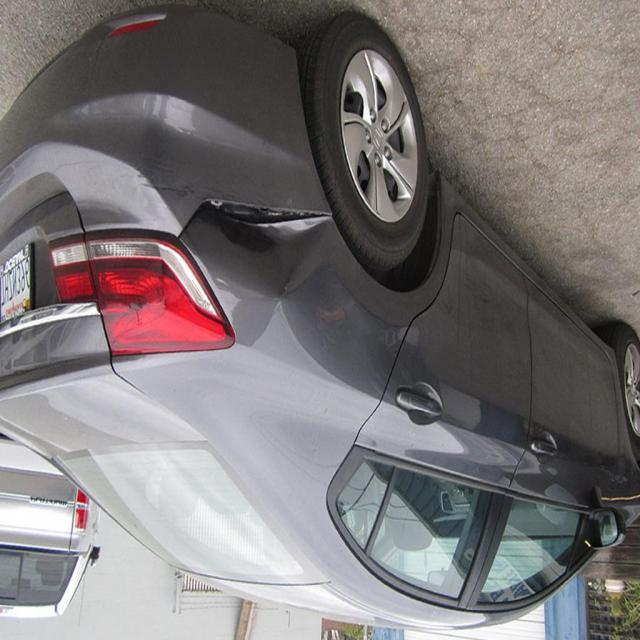dent: (174, 190, 334, 242)
